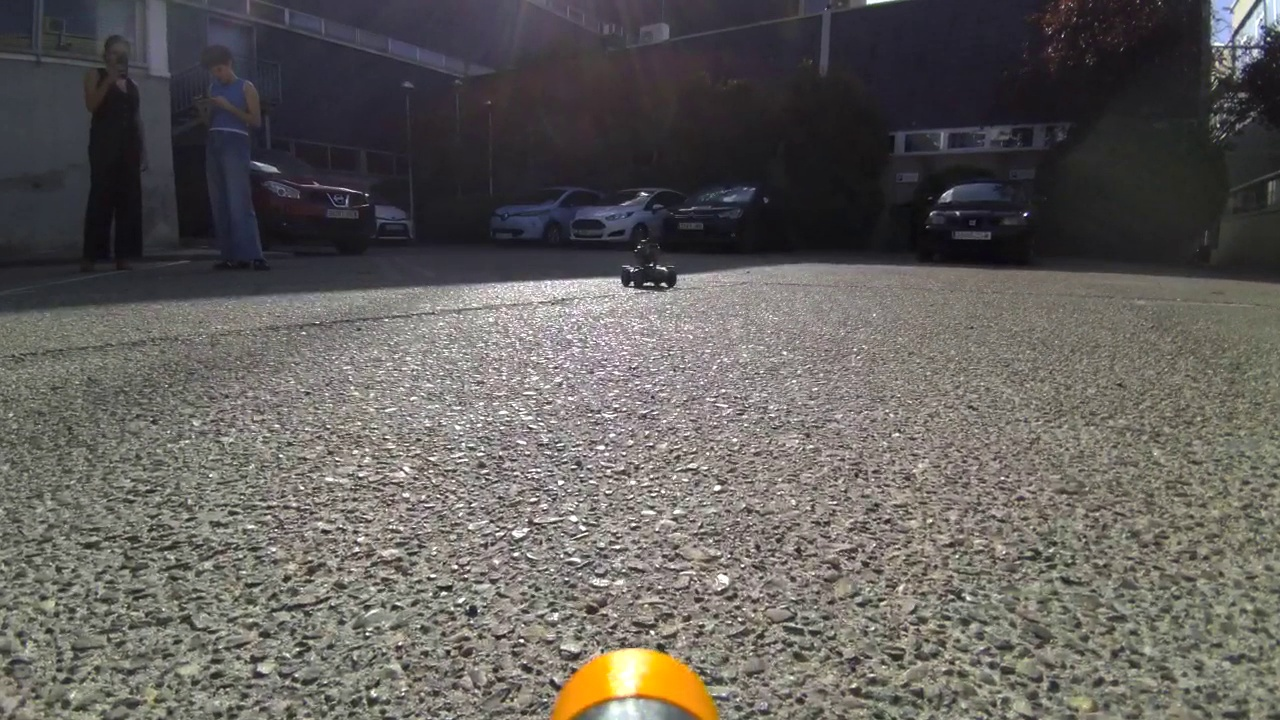robot: (603, 231, 692, 297)
